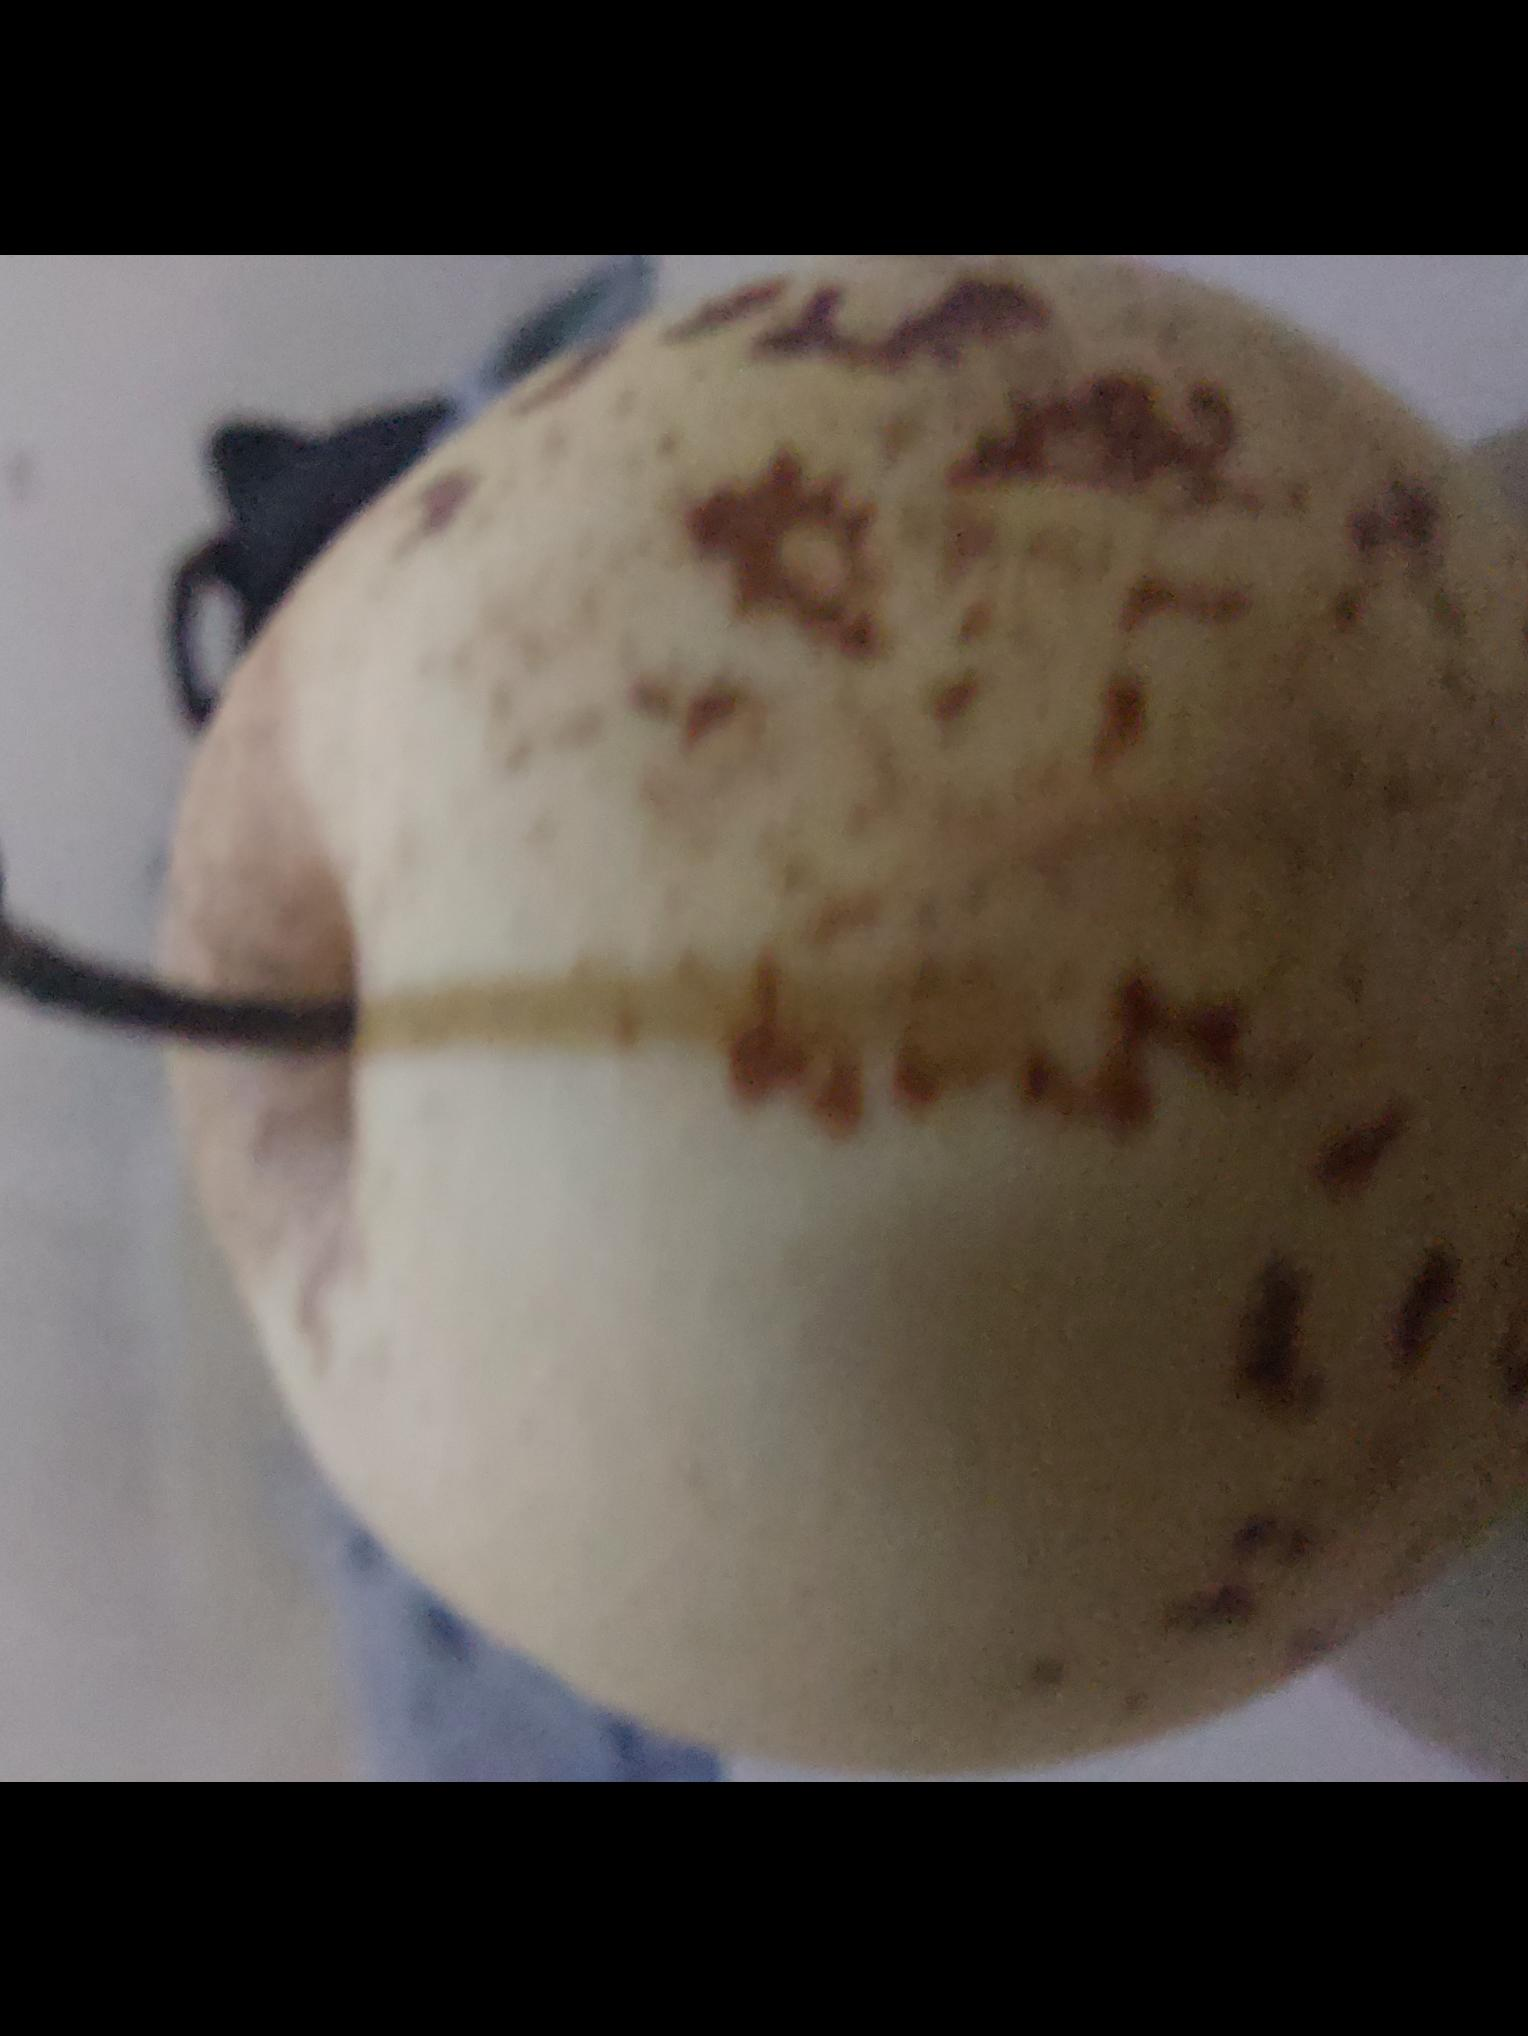Bad Pear: (135, 258, 1528, 1765)
